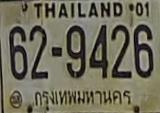2: (111, 24, 131, 78), (28, 25, 46, 79)
4: (89, 24, 107, 78)
6: (134, 23, 154, 78), (8, 26, 27, 80)
9: (66, 25, 86, 78)
BKK: (31, 86, 133, 110)
